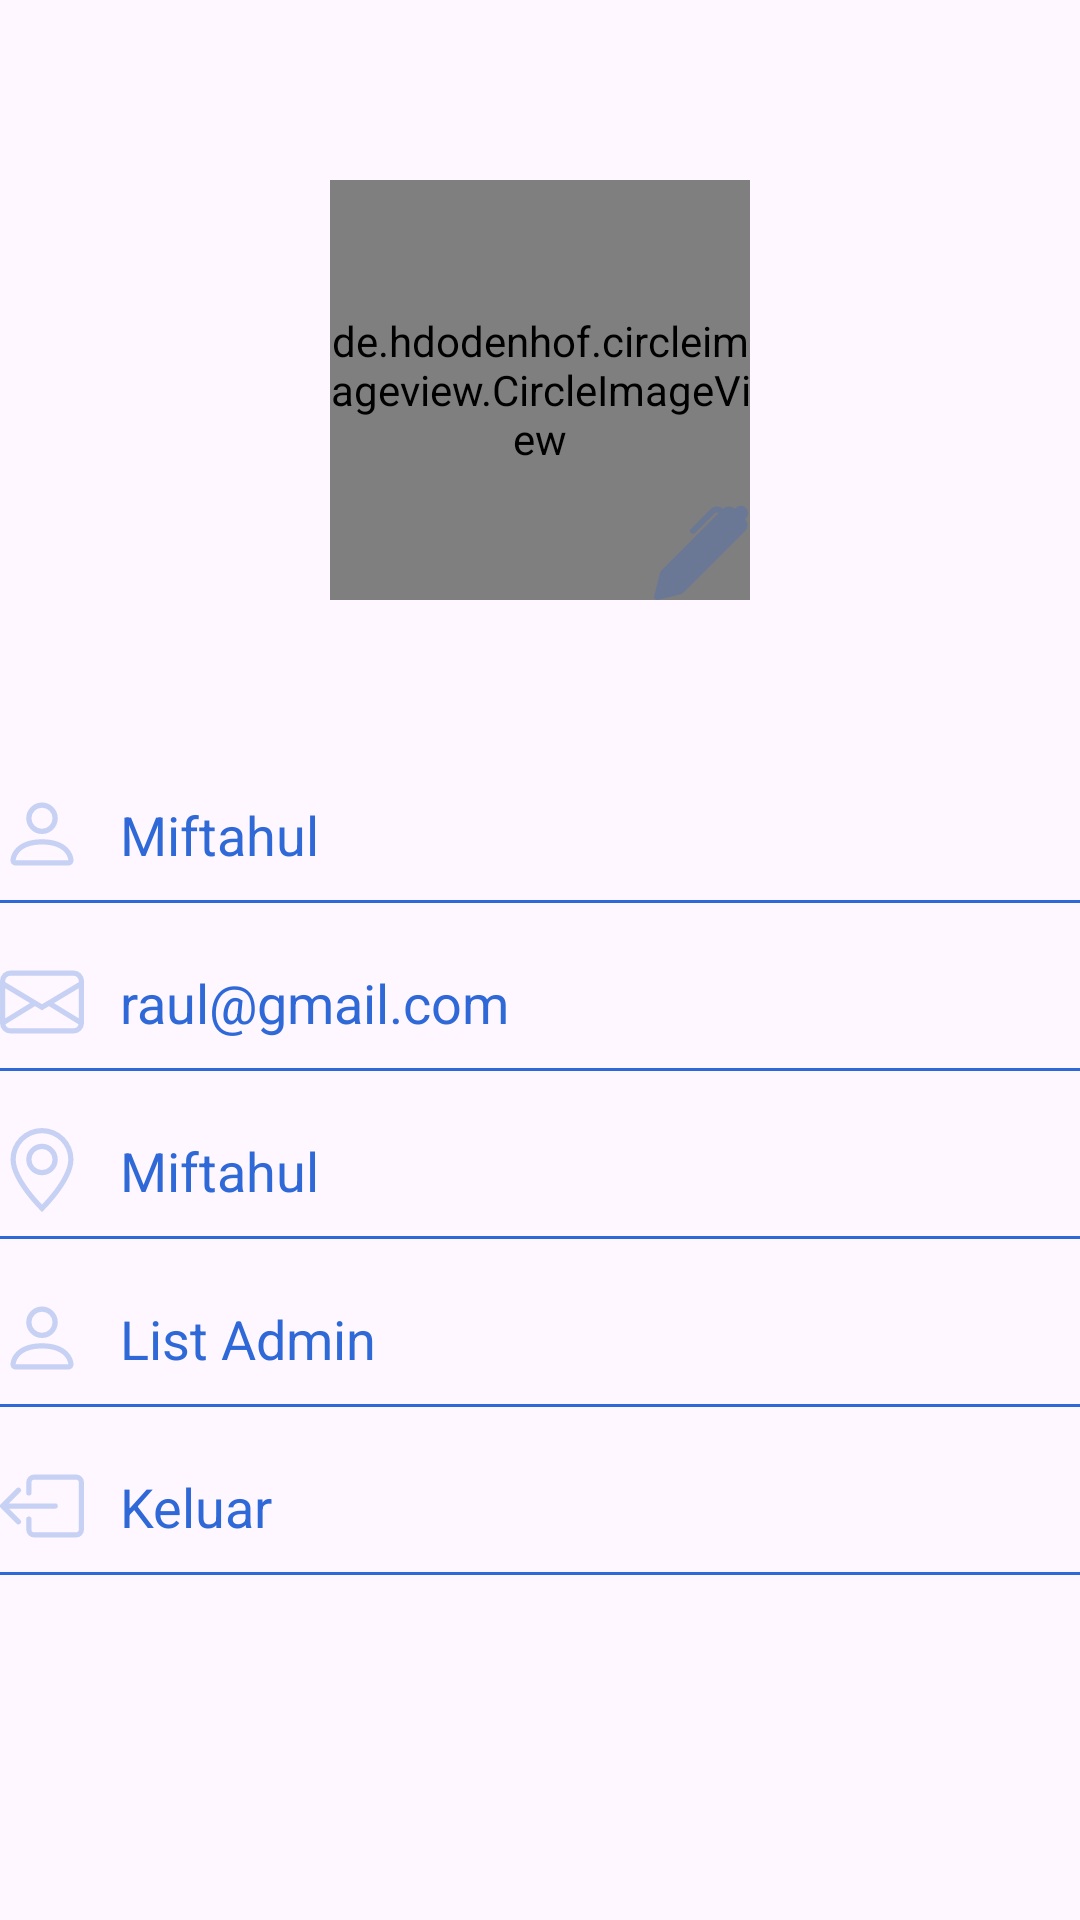

Icon click points for this 1080x1920 phone screenshot, format (x=x, y=y):
email: (x=42, y=1002)
lokasi: (x=42, y=1170)
person: (x=42, y=834), (x=42, y=1338)
